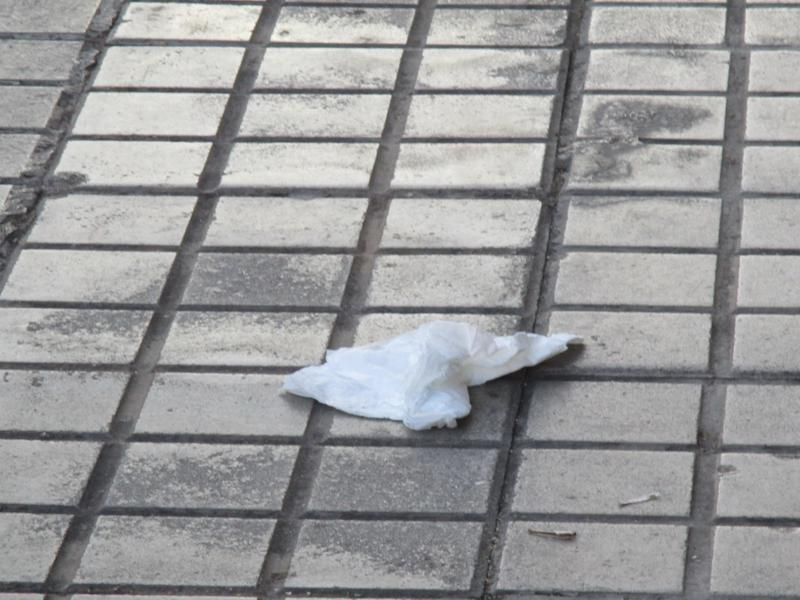paper: (270, 314, 608, 441)
